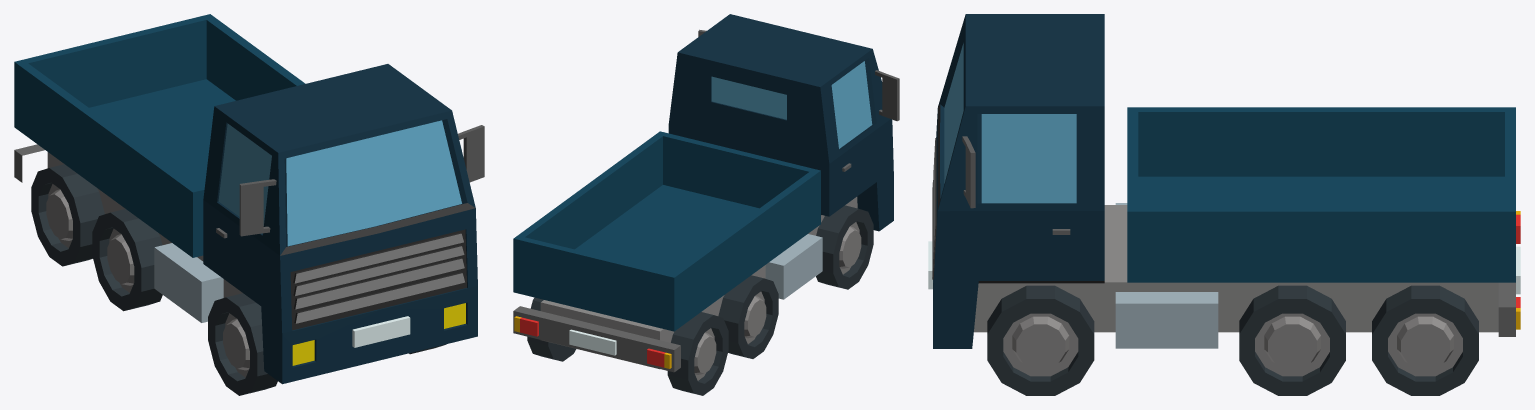
Rendered from small_truck.glb.
3 renders of one model, left to right at view 1: azimuth 30°, elevation 25°; view 2: azimuth 150°, elevation 25°; view 3: azimuth 270°, elevation 25°, orthographic. The views are drawn at different scales.
Parts seen in each view (by area): view 1: Small_Truck; view 2: Small_Truck; view 3: Small_Truck.
Boxes of the visible parts, x1=… form: Small_Truck: x1=14, y1=14, x2=484, y2=395; Small_Truck: x1=513, y1=14, x2=899, y2=395; Small_Truck: x1=928, y1=14, x2=1520, y2=395.
Size of the model in its own units: 2.89 by 2.96 by 5.6.
1 material, 1 textured.
